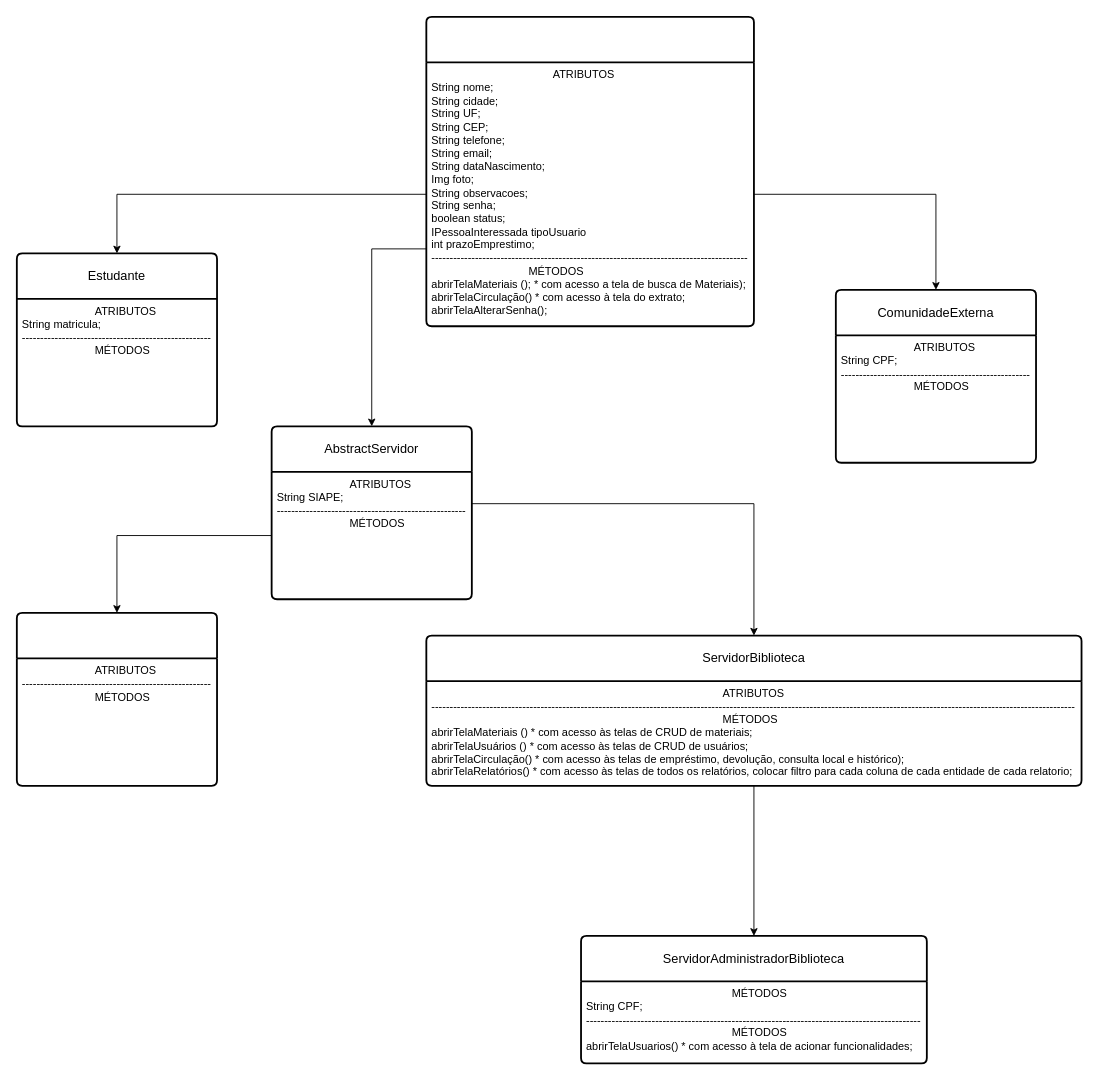
Image size: 1097x1079. Some labels were removed from this diagram. Each missing label, with the box of its shape:
AbstractUsuario: (425, 15, 754, 327)
DemaisServidores: (15, 612, 217, 786)
